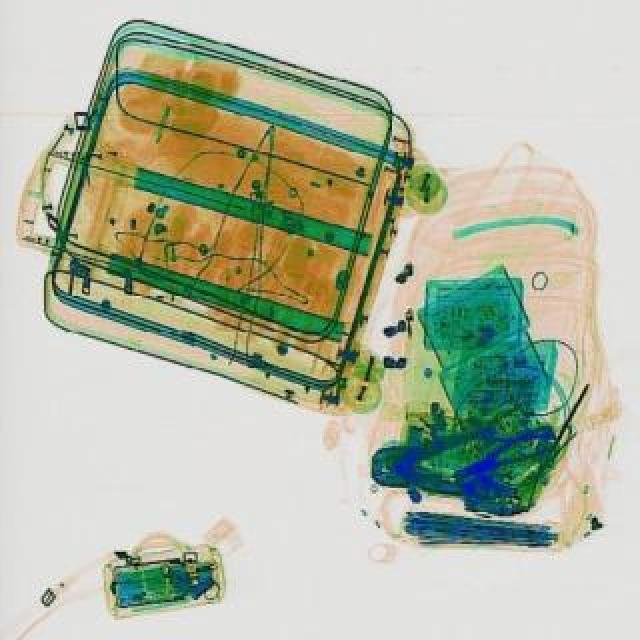wrench: (368, 426, 508, 498), (448, 418, 564, 488)
